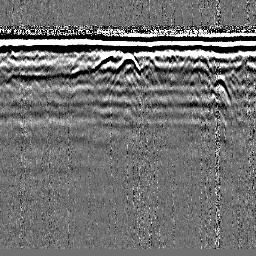cavity: (115, 51, 141, 75)
